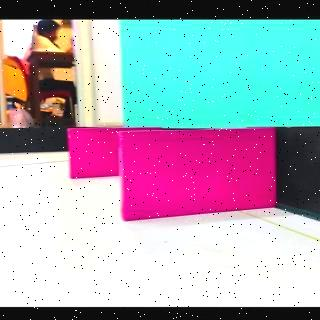xparking: (124, 132, 275, 222), (70, 128, 118, 180)
